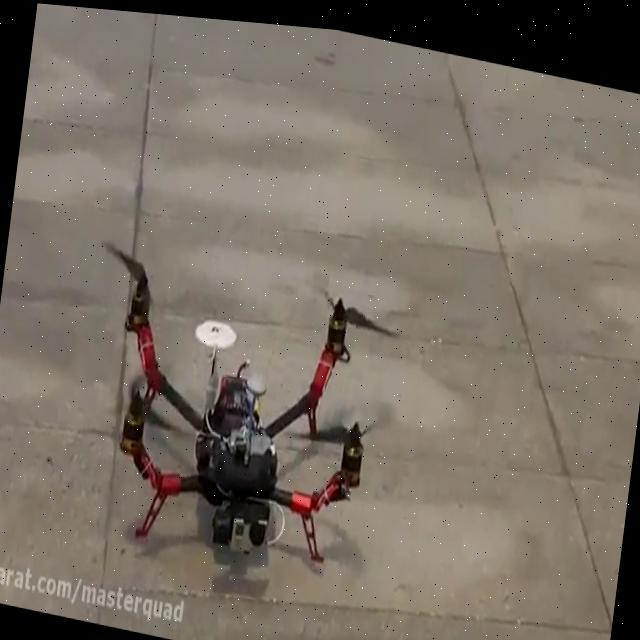drone: (55, 206, 414, 595)
